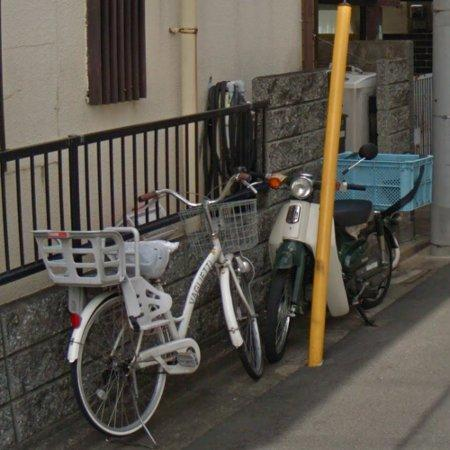bicycles: (33, 171, 263, 437)
